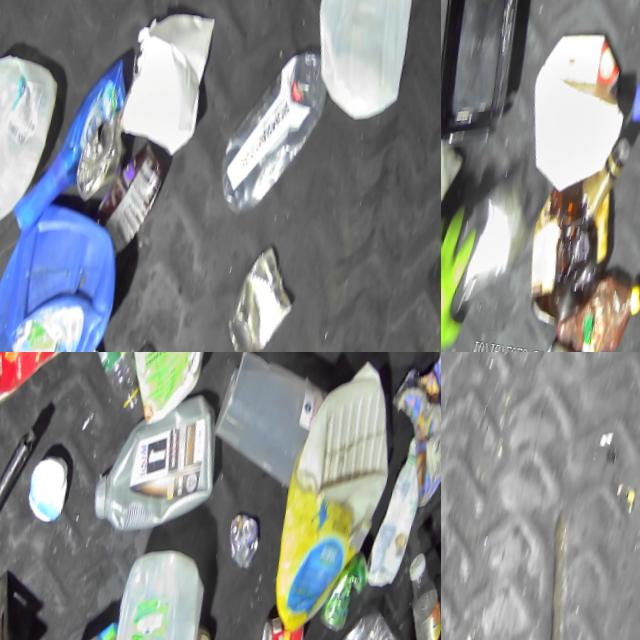can: (223, 240, 309, 352), (228, 512, 271, 568), (258, 611, 314, 640)
milk_jug: (520, 26, 640, 198), (298, 0, 437, 124), (0, 46, 67, 232), (102, 549, 219, 640)
non_white_jug: (269, 356, 413, 627), (93, 380, 229, 545), (0, 196, 138, 352)
